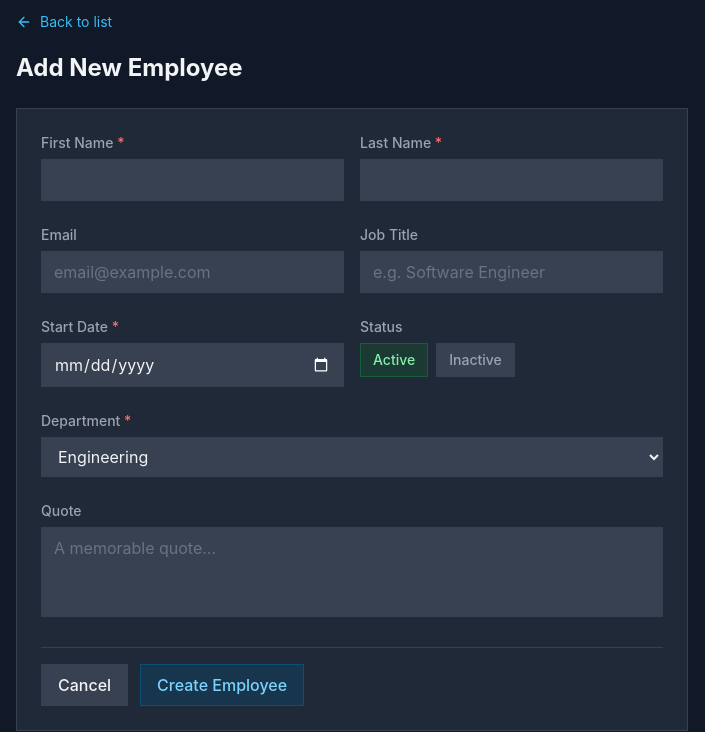
EmployeeForm › form submission › shows error message on submission failure
Type "John" into the field labelled "First Name *" at (192, 180), box [41,159,344,201]
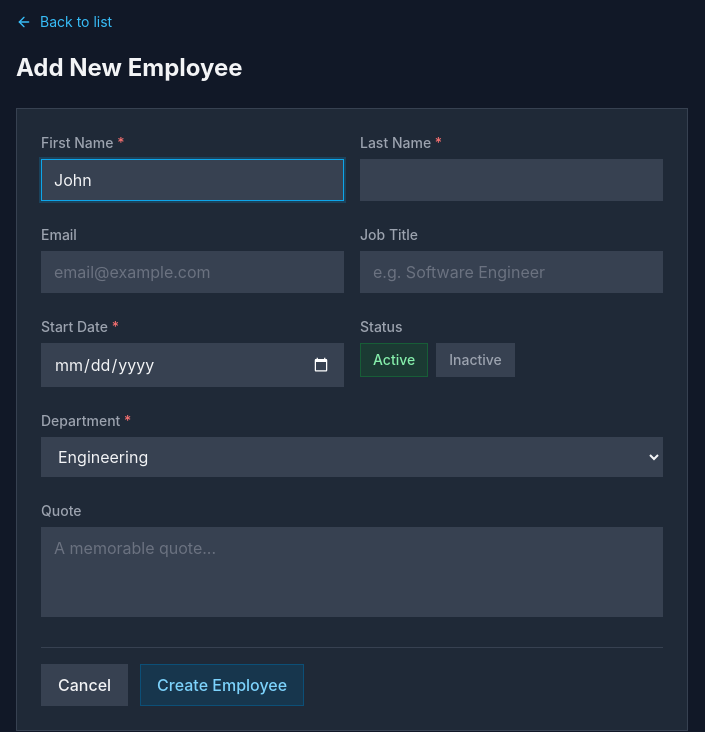
Type "Doe" into the field labelled "Last Name *" at (512, 180), box [360,159,663,201]
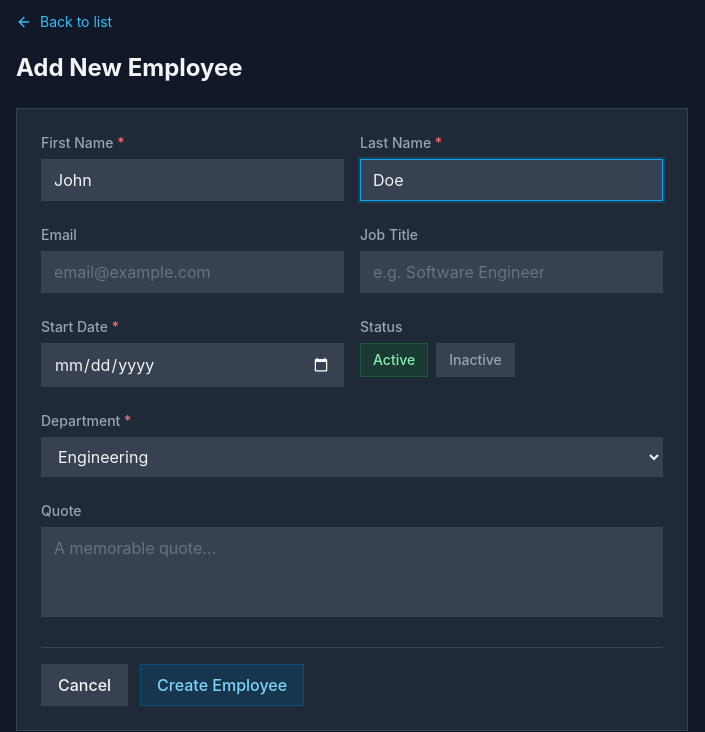
Type "2024-01-15" into the date field labelled "Start Date *" at (192, 365), box [41,343,344,387]
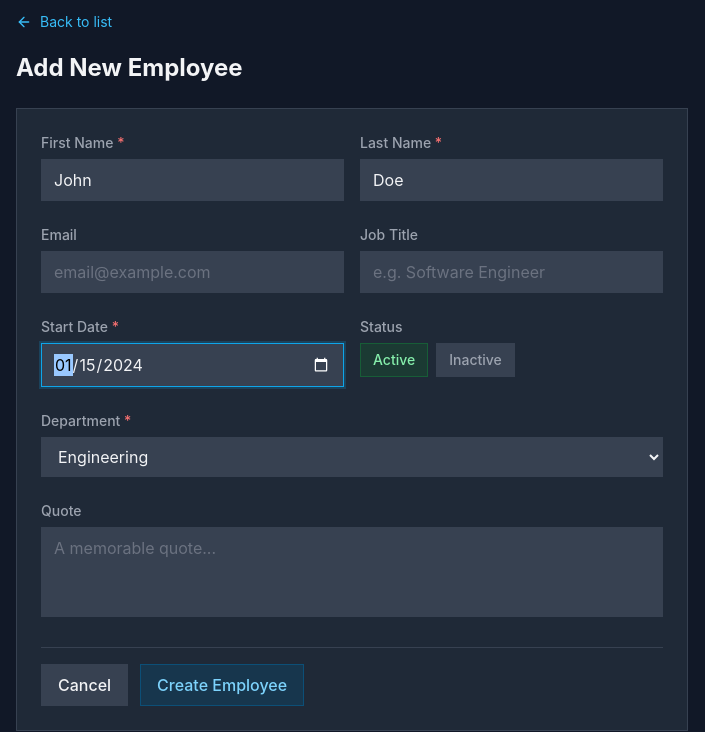
Click the button "Create Employee" at (222, 685), box [140,664,304,706]
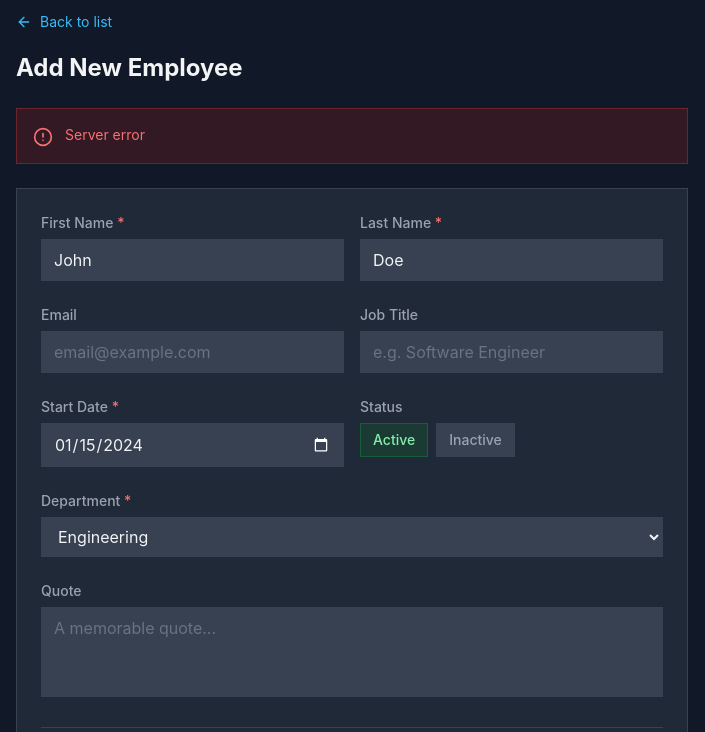
expect the text "Server error" is shown: met, box [65,125,145,145]
